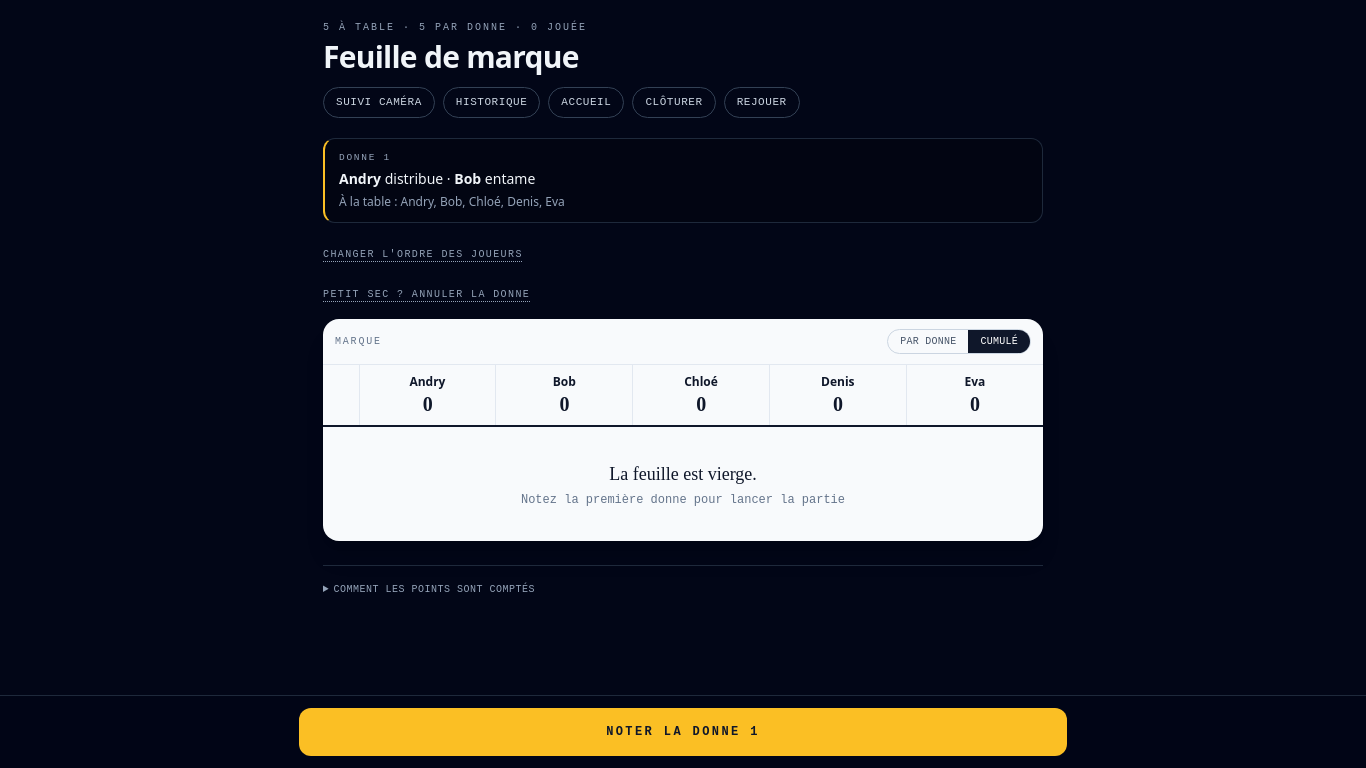
Scenario: Plusieurs tables ouvertes en même temps › fermer une table n'affecte pas les autres tables ouvertes
Click the button "Noter la donne 1" at (683, 732), box [299,708,1067,756]
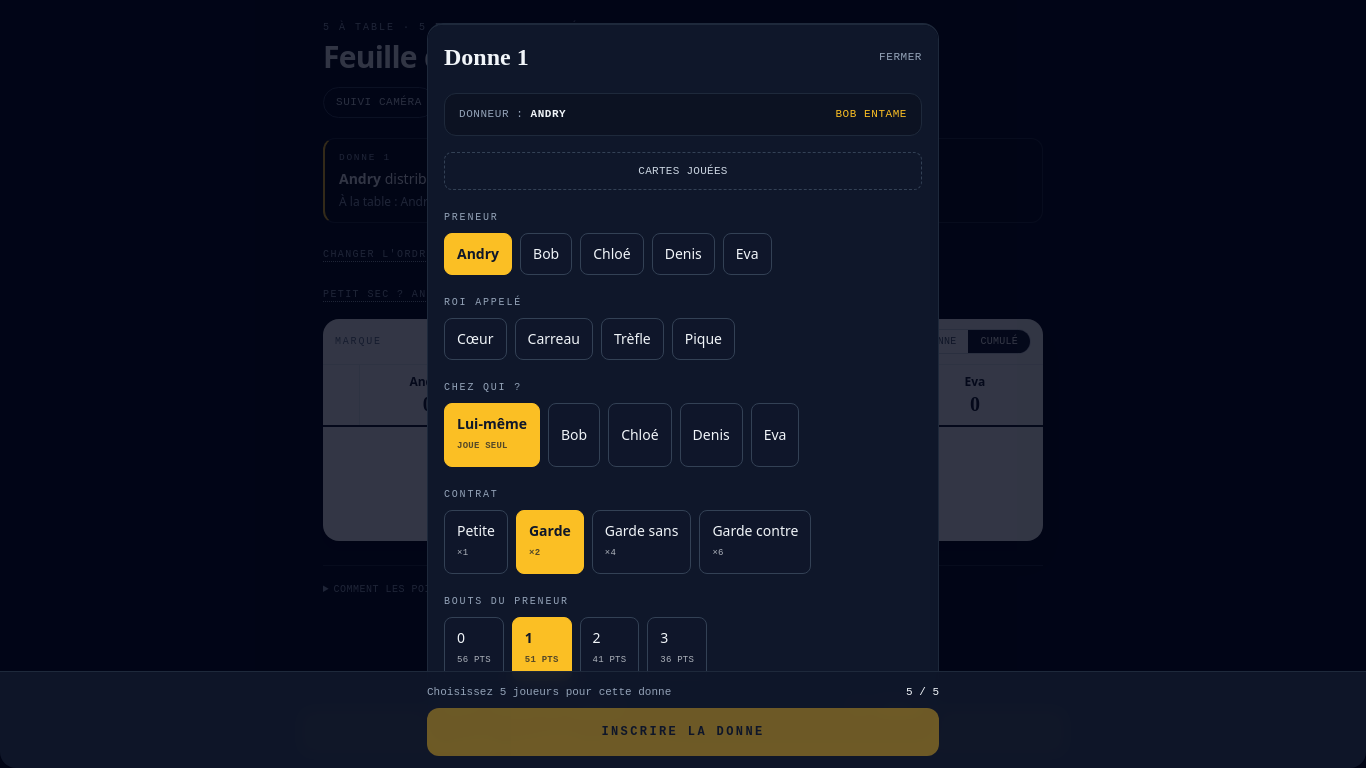
Click the button "Cœur" at (475, 339), box [444,318,506,360]
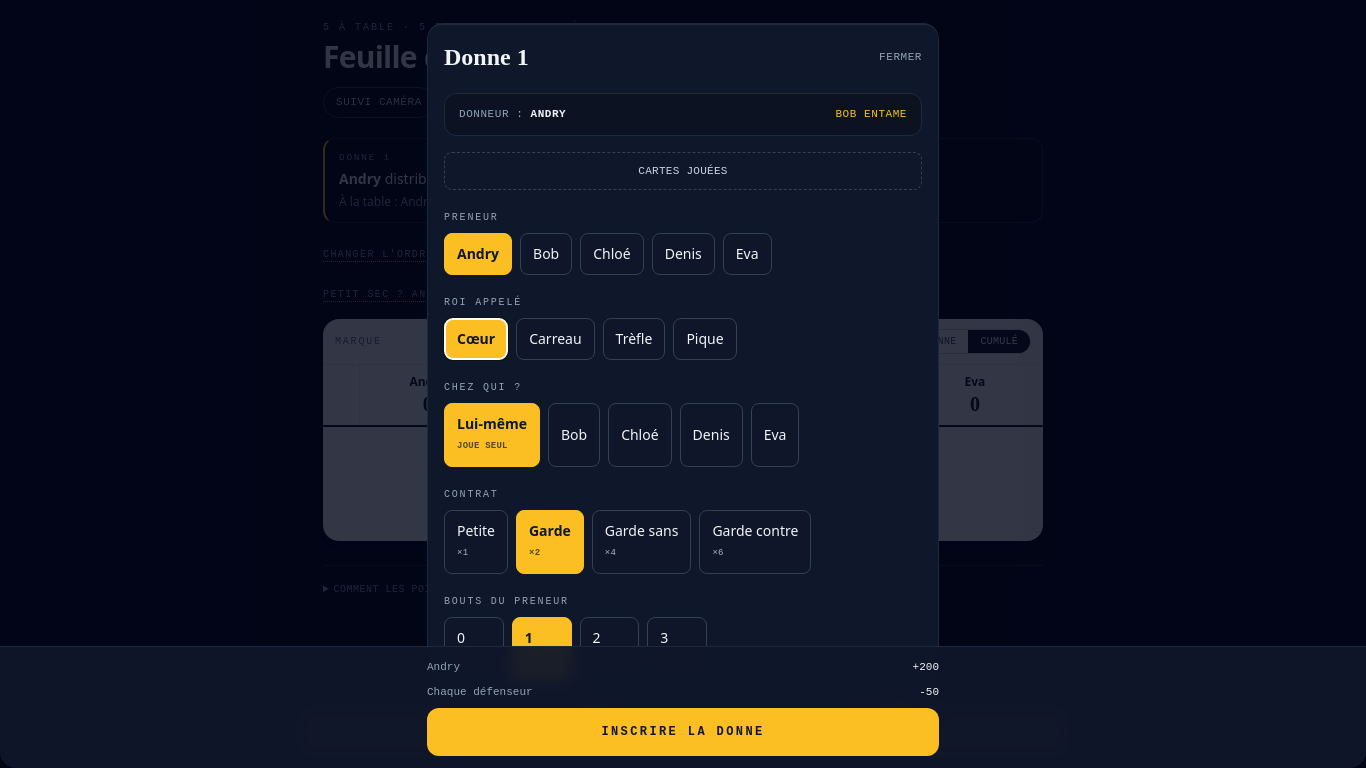
Click the button "Inscrire la donne" at (683, 732), box [427,708,939,756]
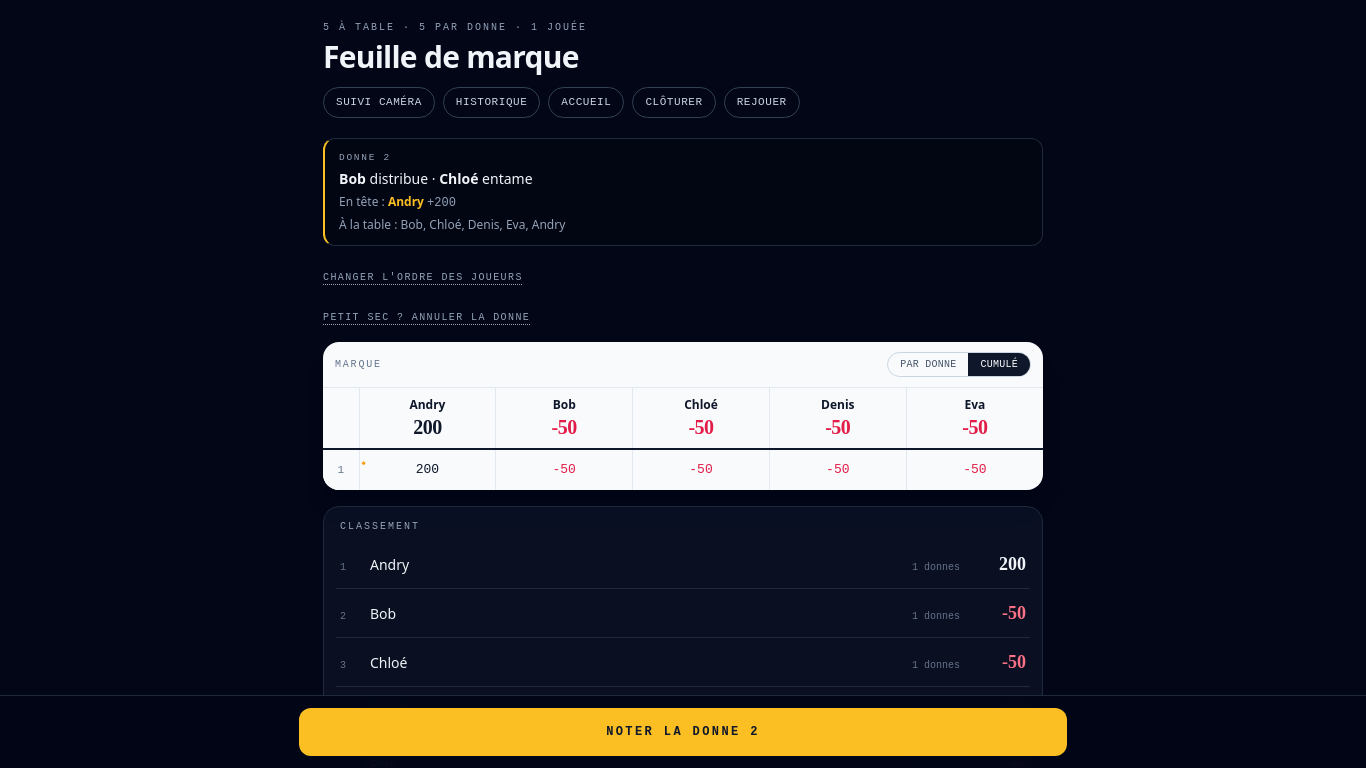
Check: the button "Noter la donne 2" is shown, box [299,708,1067,756]
Click the button "Clôturer" at (674, 102), box [632,87,716,118]
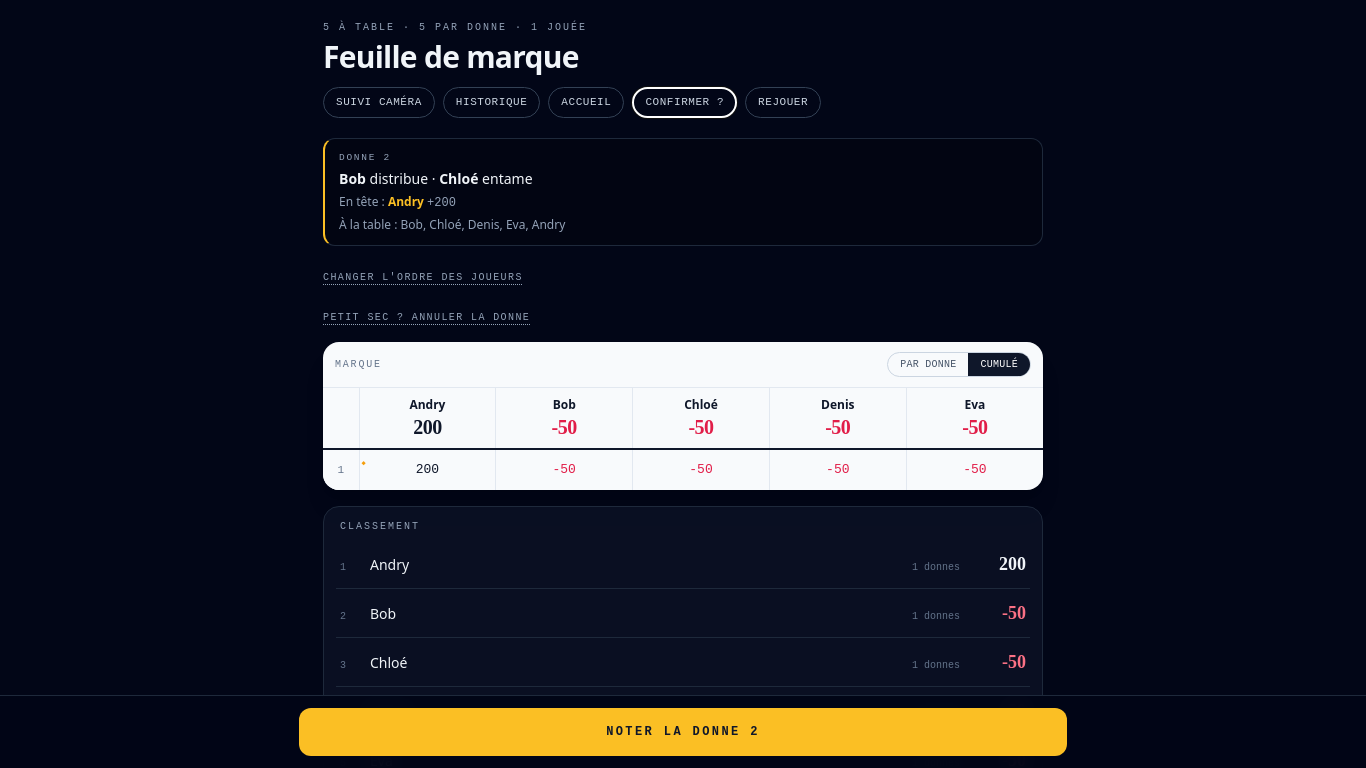
Click the button "Confirmer ?" at (685, 102), box [632,87,737,118]
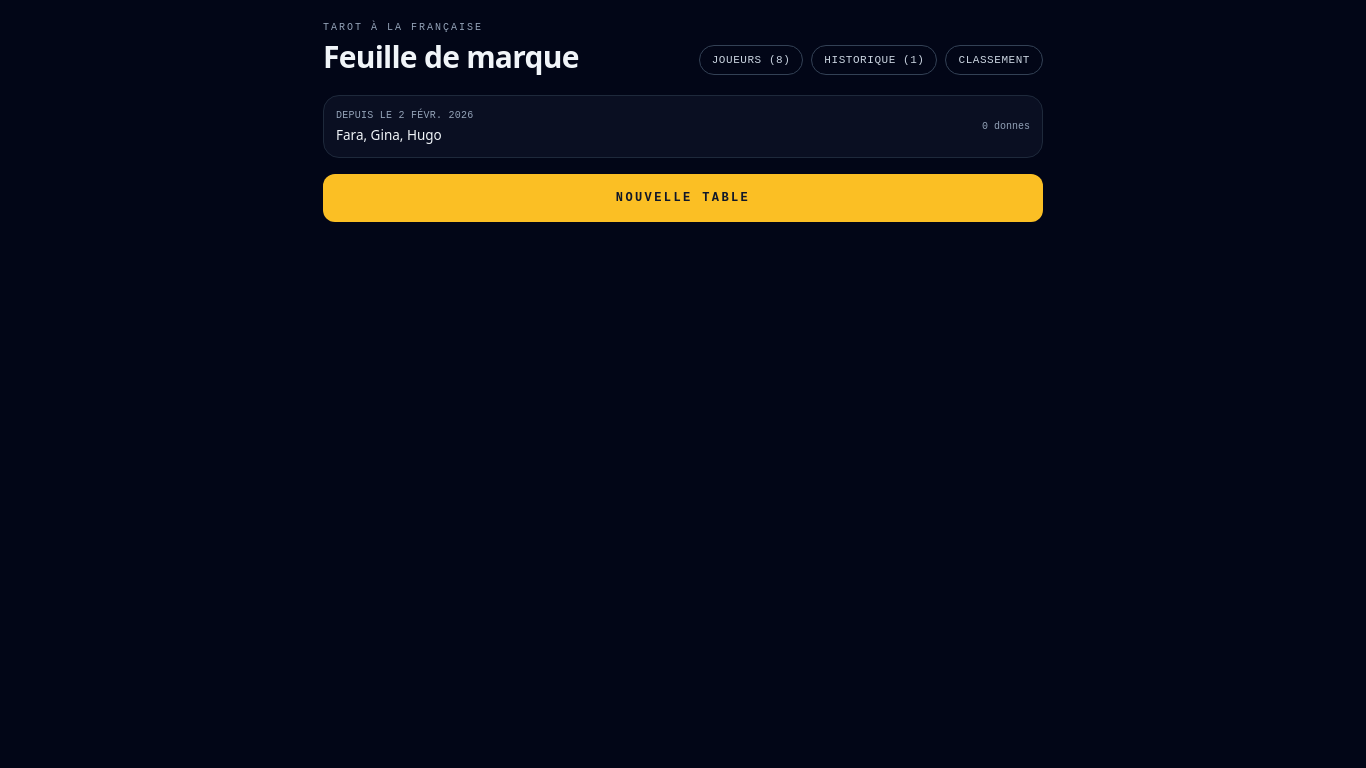
Check: the heading "Feuille de marque" is shown, box [323,39,579,75]
Check: the text "Fara, Gina, Hugo" is shown, box [336,126,442,144]
Check: the link "Historique (1)" is shown, box [811,44,938,75]
